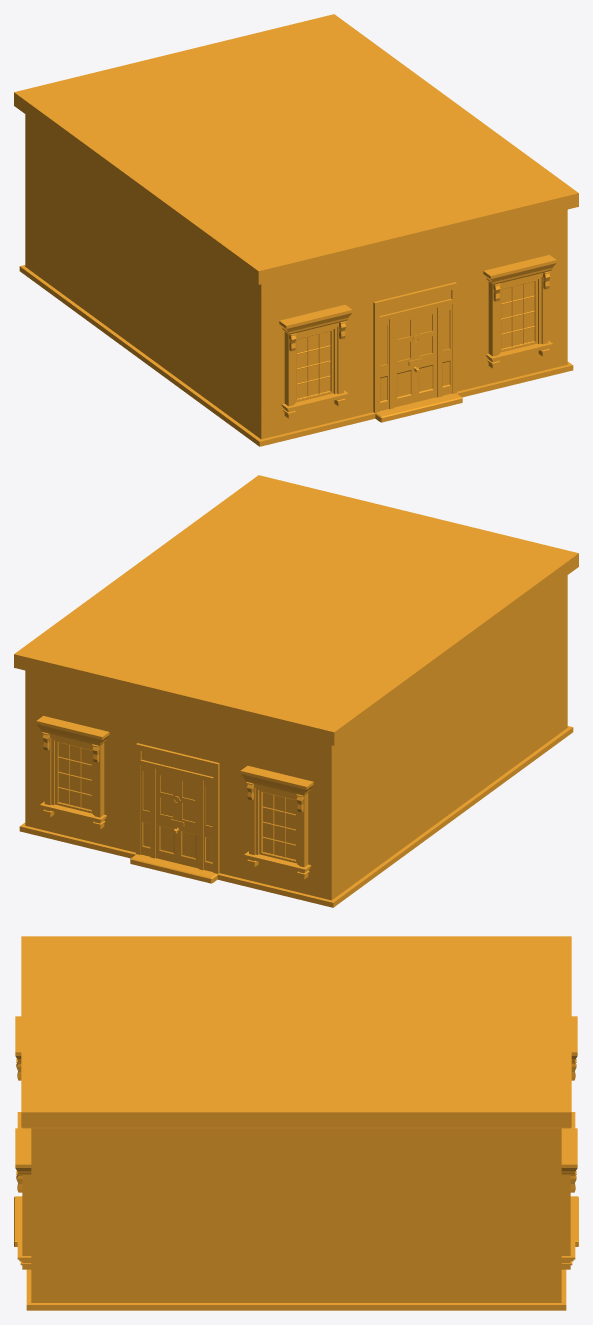
File: SM_Floor_Bottom_Wide_Door_Fb_Steampunk.fbx
3 renders of one model, top to bottom at view 1: azimuth 30°, elevation 25°; view 2: azimuth 150°, elevation 25°; view 3: azimuth 270°, elevation 25°, orthographic. The views are drawn at different scales.
Parts seen in each view (by area): view 1: floor-bottom-wide-door-fb-steampunk; view 2: floor-bottom-wide-door-fb-steampunk; view 3: floor-bottom-wide-door-fb-steampunk.
Boxes of the visible parts, box(x1,y1,x2,y2) form: floor-bottom-wide-door-fb-steampunk: box(14, 14, 578, 446); floor-bottom-wide-door-fb-steampunk: box(14, 475, 578, 907); floor-bottom-wide-door-fb-steampunk: box(14, 936, 578, 1310).
Size of the model in its own units: 9.41 by 5 by 12.79.
